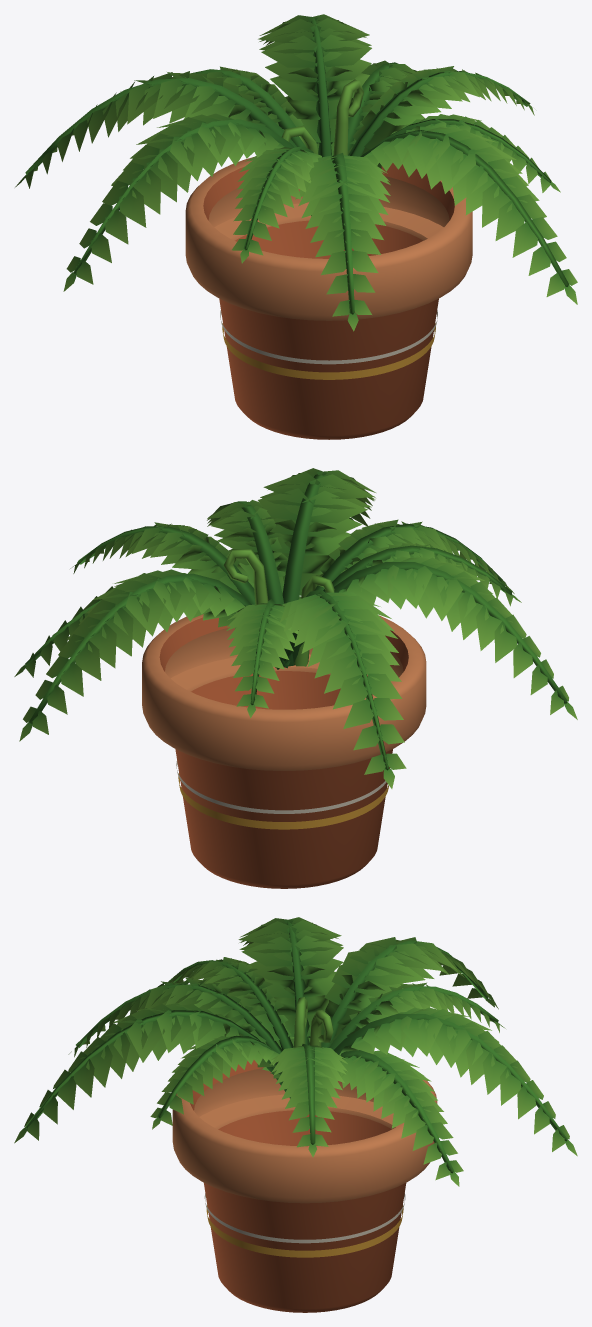
Rendered from potted_fern_terracotta.glb.
3 renders of one model, top to bottom at view 1: azimuth 30°, elevation 25°; view 2: azimuth 150°, elevation 25°; view 3: azimuth 270°, elevation 25°, orthographic. The views are drawn at different scales.
Visible parts, largest first — view 1: potted_fern_terracotta; view 2: potted_fern_terracotta; view 3: potted_fern_terracotta.
Boxes of the visible parts, box(x1,y1,x2,y2) form: potted_fern_terracotta: box(15, 14, 577, 439); potted_fern_terracotta: box(14, 468, 577, 888); potted_fern_terracotta: box(14, 917, 577, 1312).
Size of the model in its own units: 0.7727 by 0.4727 by 0.8272.
